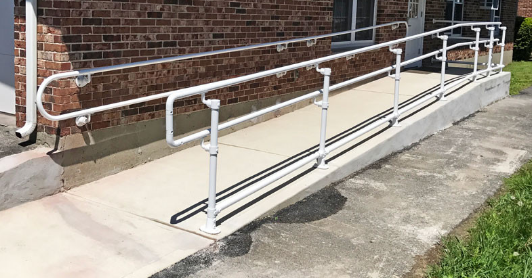slopes: (21, 17, 522, 241)
